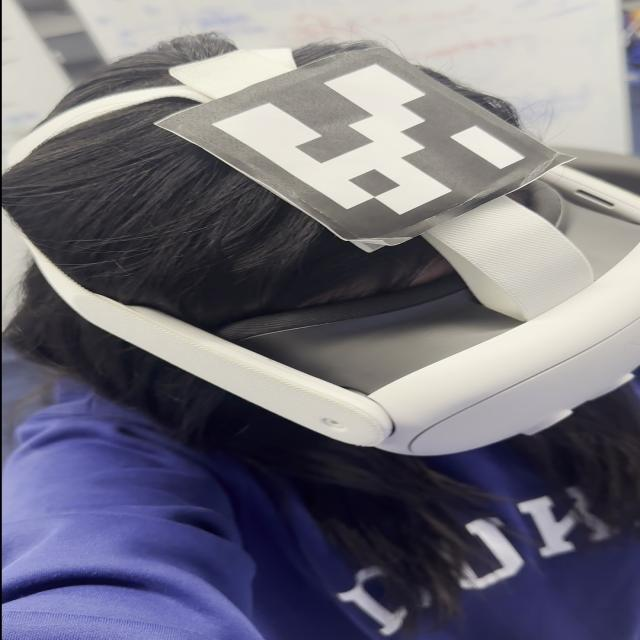Aruco Marker: (151, 43, 576, 252)
VR Headset: (2, 45, 638, 457)
